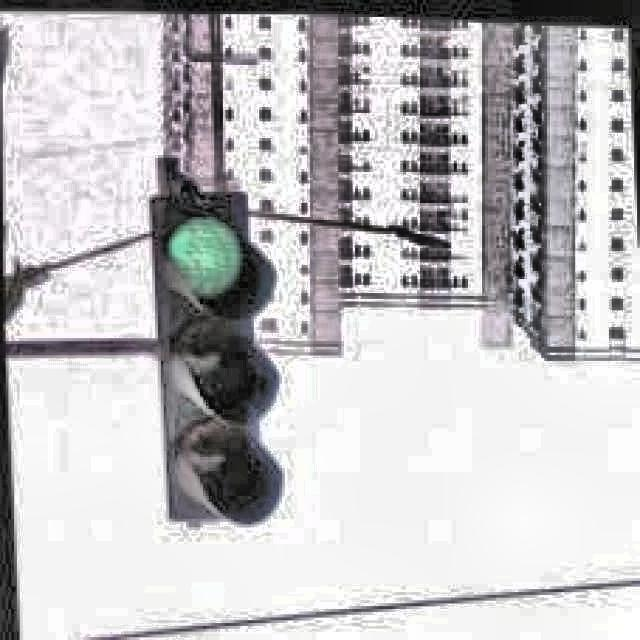green: (152, 185, 288, 515)
